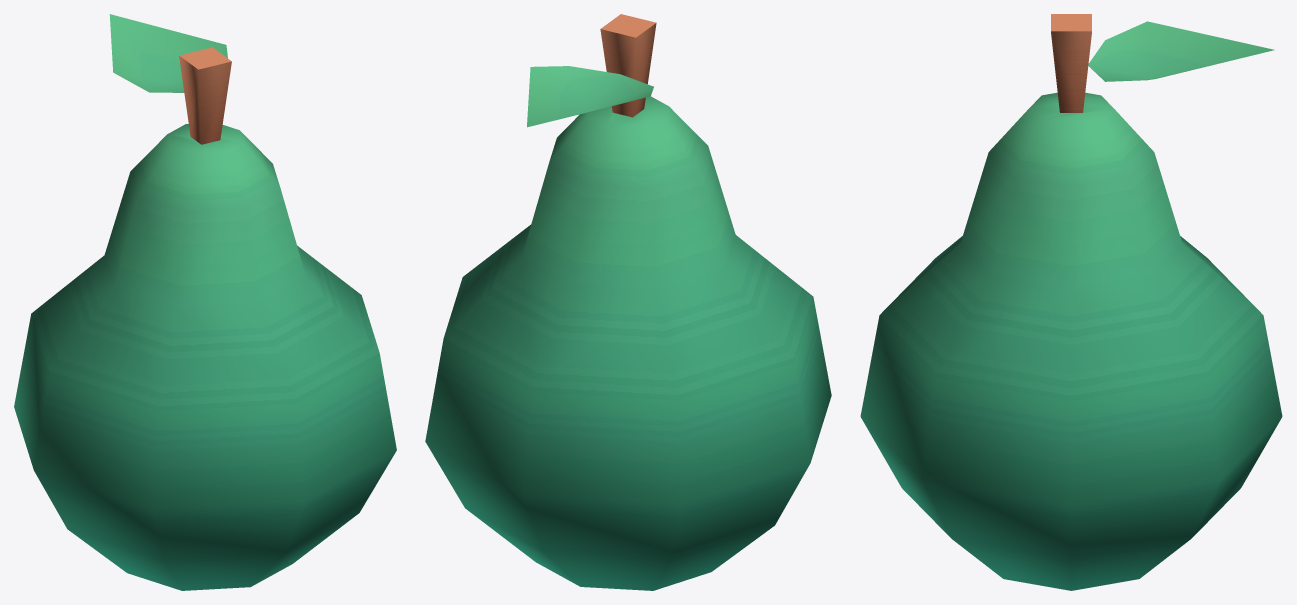
File: pear.glb
3 renders of one model, left to right at view 1: azimuth 30°, elevation 25°; view 2: azimuth 150°, elevation 25°; view 3: azimuth 270°, elevation 25°, orthographic. The views are drawn at different scales.
Parts seen in each view (by area): view 1: pear; view 2: pear; view 3: pear.
Boxes of the visible parts, bbox=[...] form: pear: bbox=[14, 14, 396, 590]; pear: bbox=[425, 14, 831, 590]; pear: bbox=[860, 14, 1282, 590].
Bounding box in the file's own units: 0.1963 × 0.2708 × 0.1963.
1 material, 1 textured.
